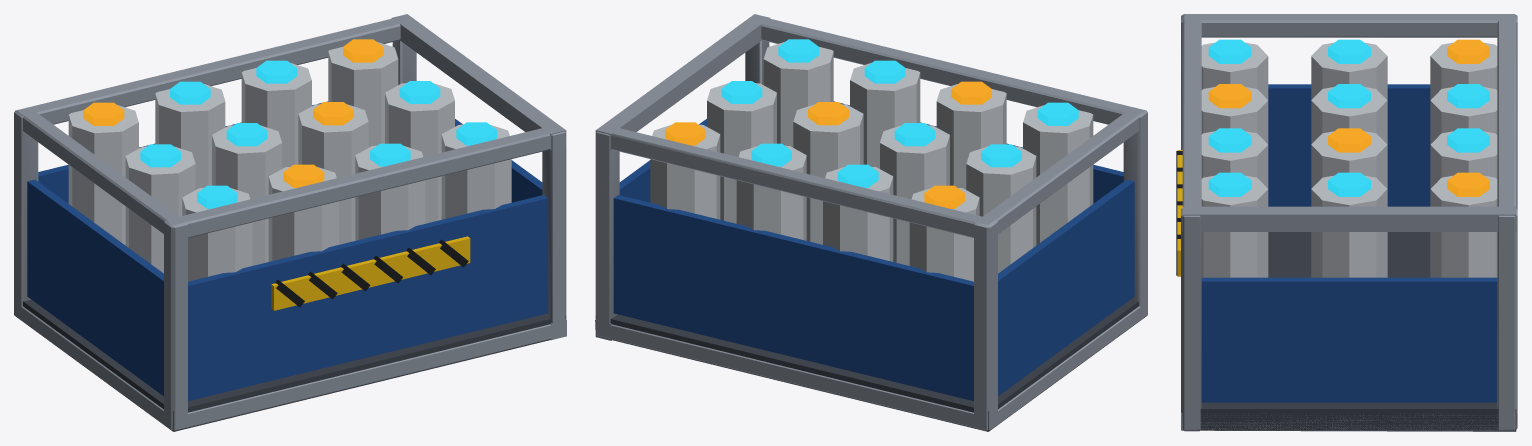
Rendered from crate_open_power_cells.glb.
3 views of the same model, side by side, from view 1: azimuth 30°, elevation 25°; view 2: azimuth 150°, elevation 25°; view 3: azimuth 270°, elevation 25° (orthographic). The views are drawn at different scales.
Parts seen in each view (by area): view 1: crate_open_power_cells; view 2: crate_open_power_cells; view 3: crate_open_power_cells.
Boxes of the visible parts, x1,y1,x2,y2 form: crate_open_power_cells: [14, 14, 566, 431]; crate_open_power_cells: [595, 14, 1147, 431]; crate_open_power_cells: [1176, 14, 1517, 431].
Bounding box in the file's own units: 1.01 × 0.503 × 0.716.
